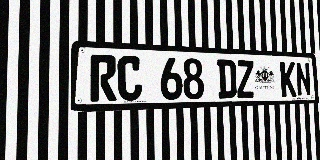6: (160, 57, 183, 100)
8: (183, 58, 204, 99)
C: (117, 55, 142, 101)
D: (217, 59, 237, 98)
K: (280, 61, 297, 97)
N: (295, 62, 311, 97)
R: (90, 54, 117, 102)
Z: (236, 60, 255, 98)
